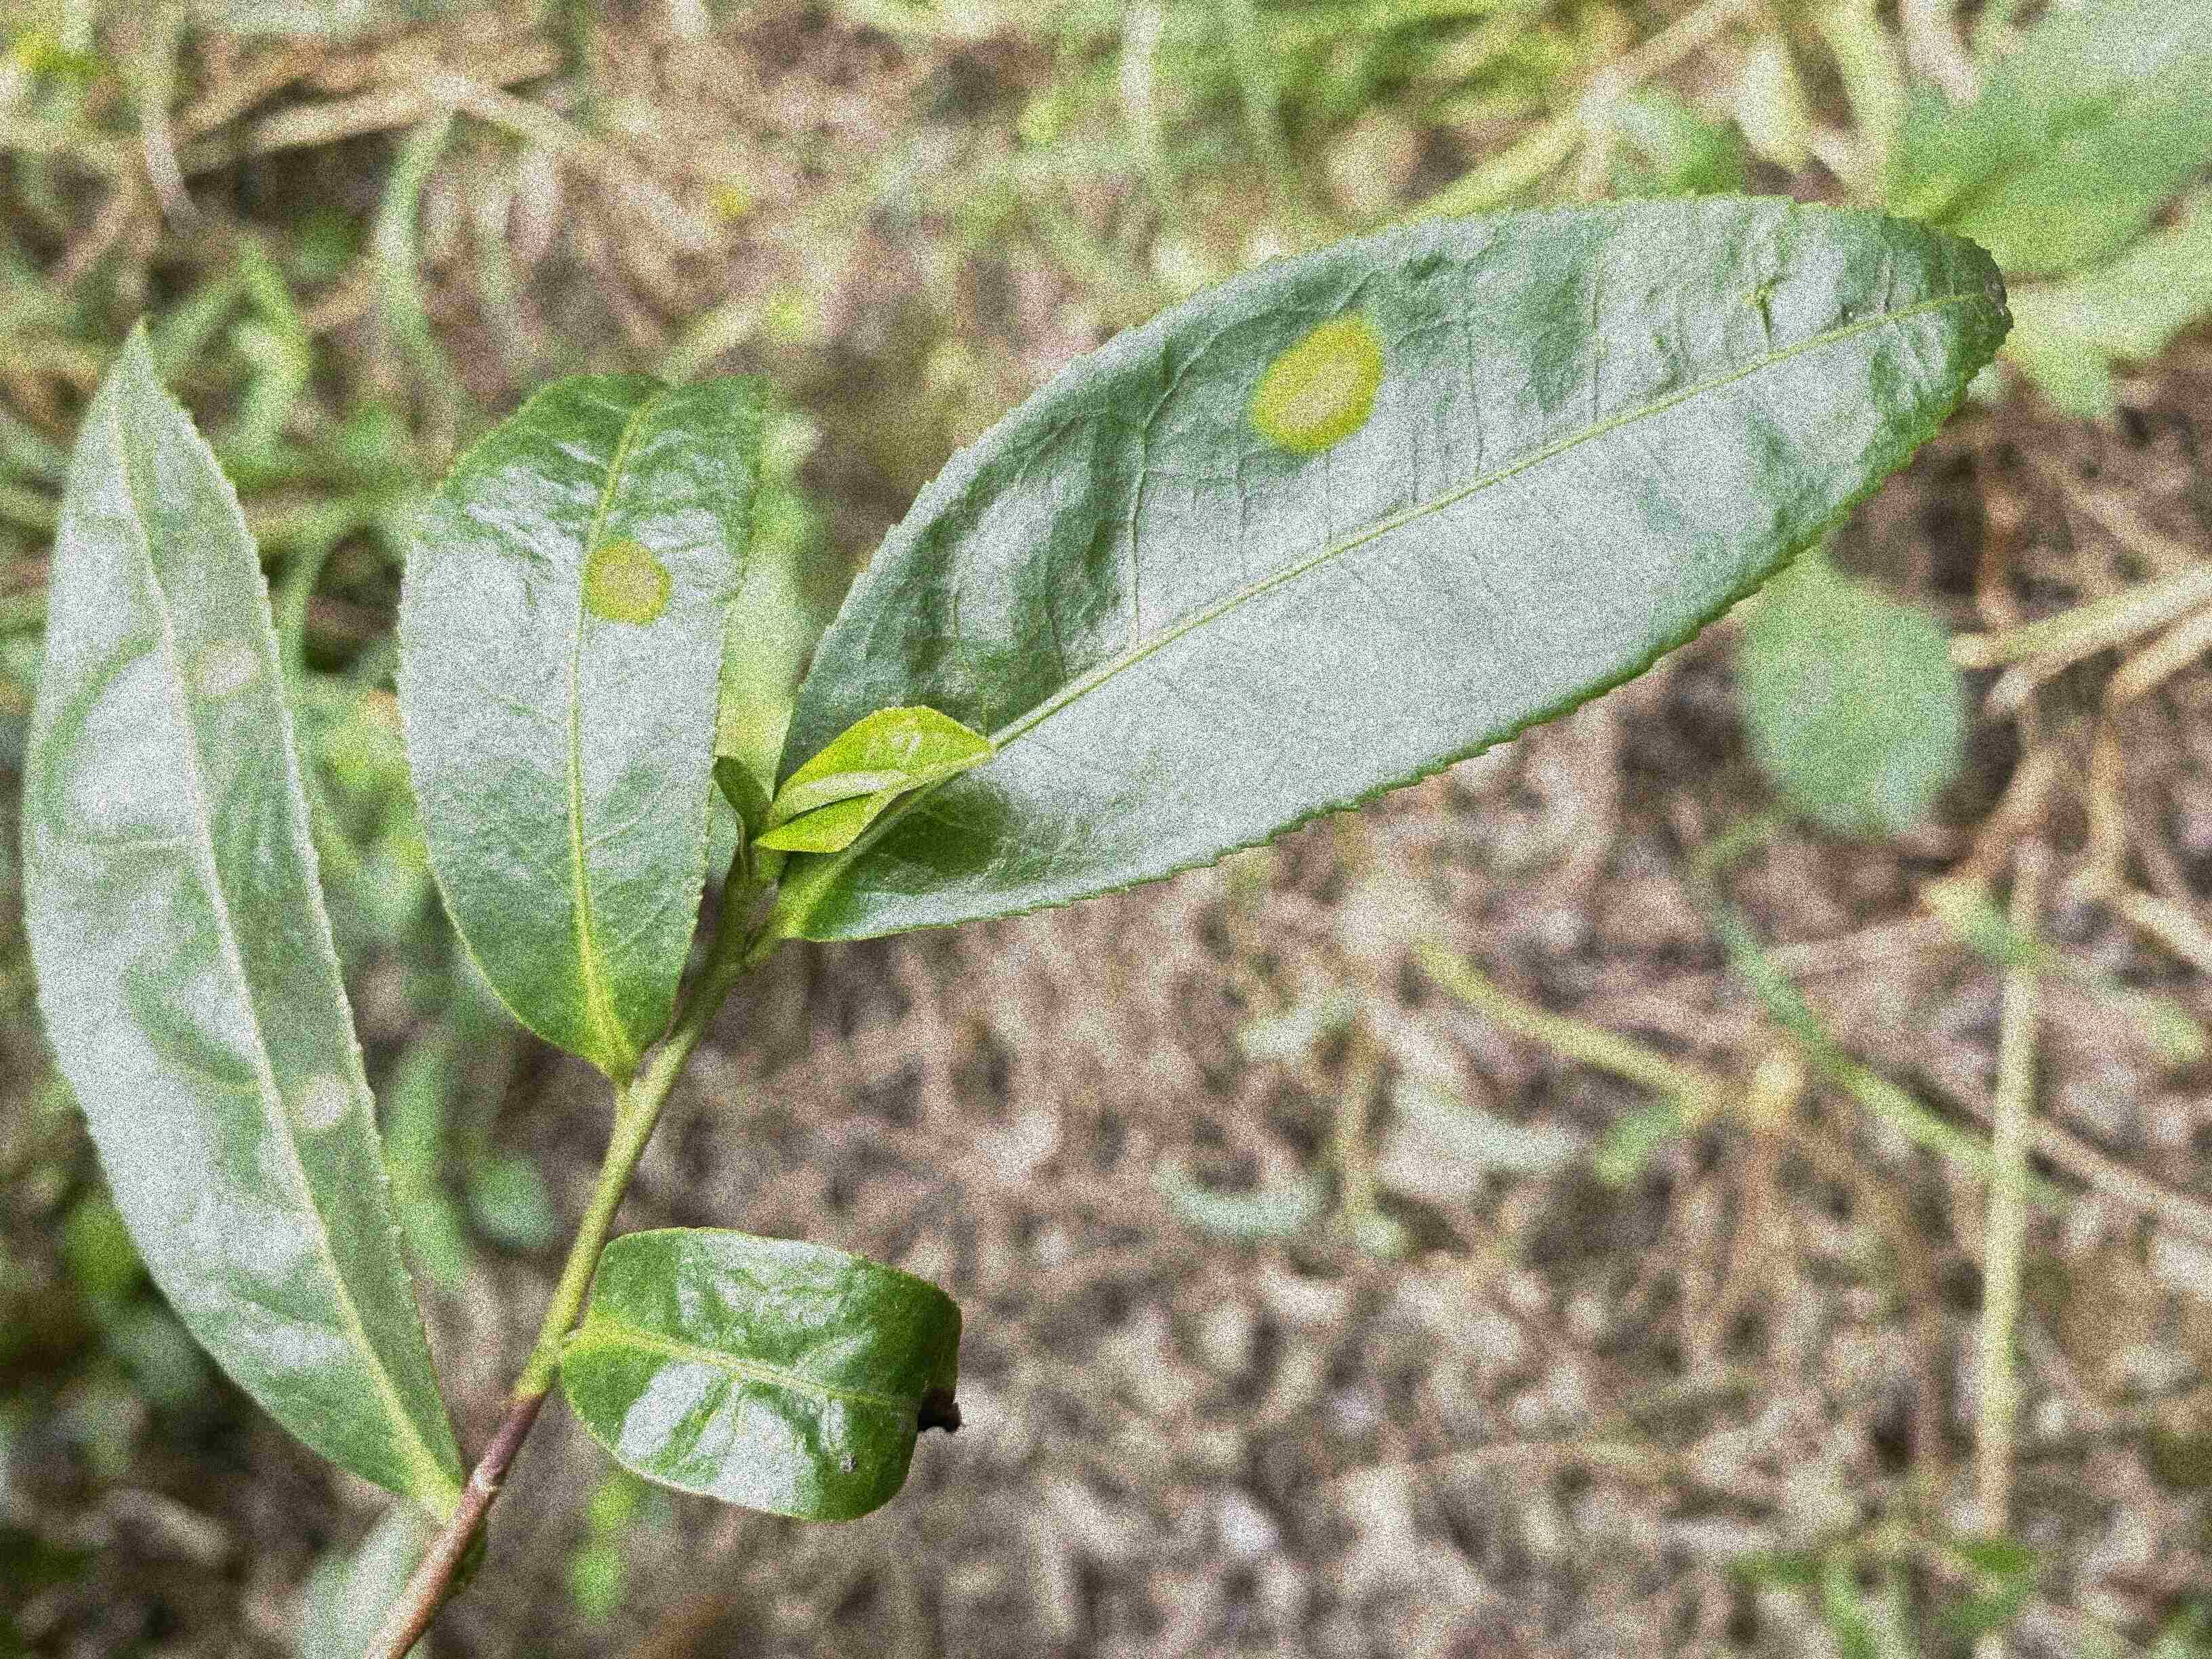chabing_high: (21, 314, 470, 1509)
chabing_low: (768, 188, 2017, 943), (394, 373, 768, 1075)
healthy: (751, 699, 993, 856)
